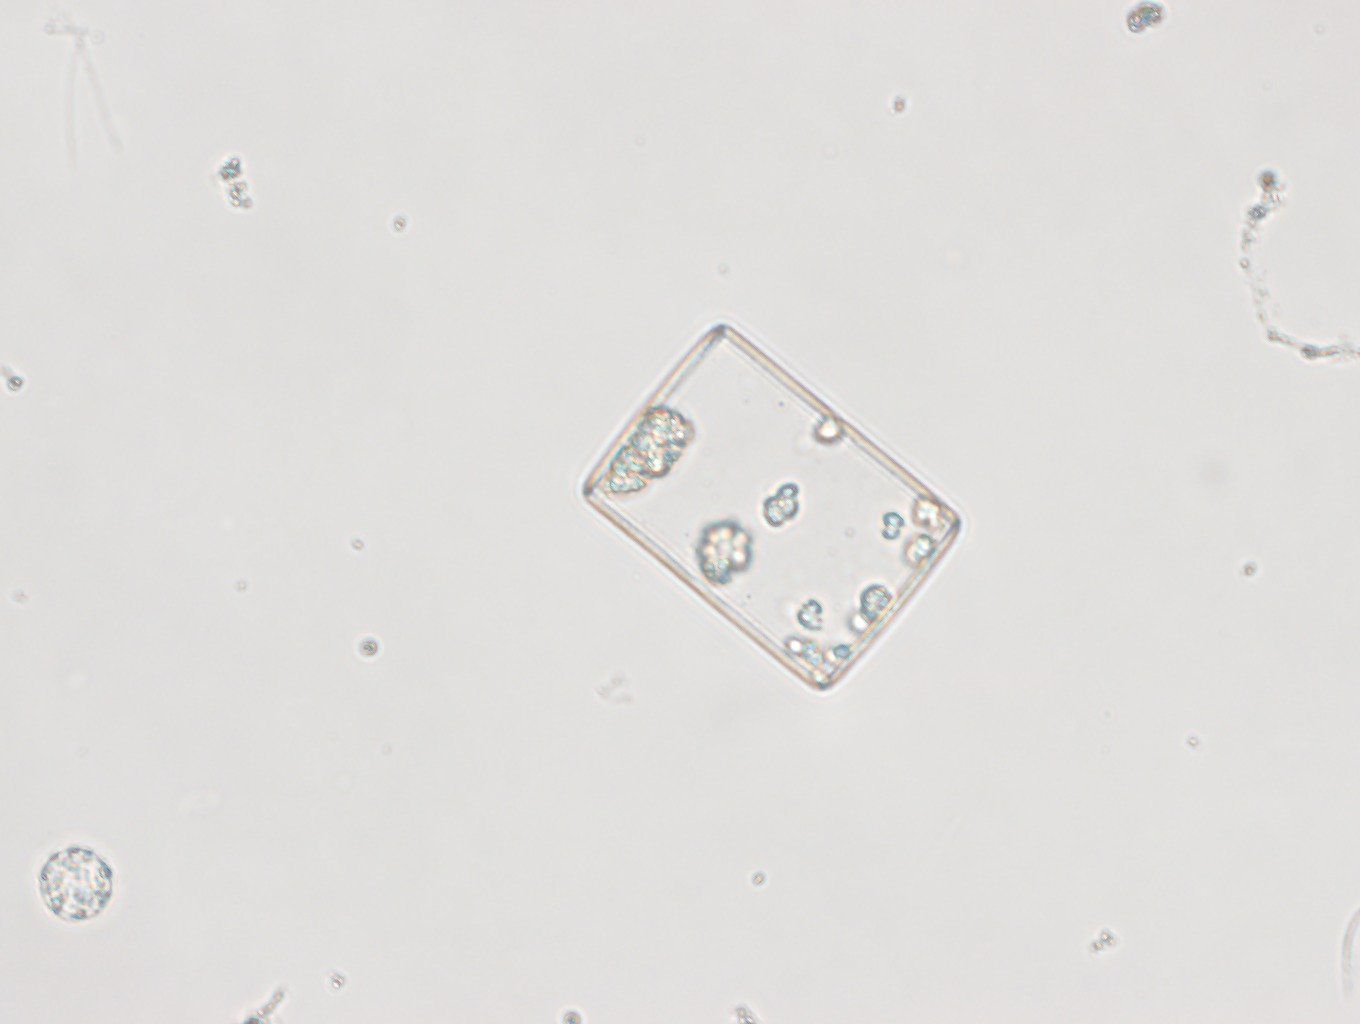guinardia flaccida: (579, 322, 962, 689)
